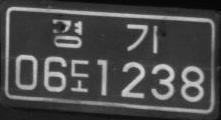0: (14, 53, 38, 91)
1: (92, 58, 114, 96)
2: (120, 60, 146, 99)
3: (151, 62, 175, 100)
6: (43, 56, 67, 92)
8: (180, 64, 205, 103)
경기_D: (50, 17, 159, 54)
도: (70, 58, 89, 92)
